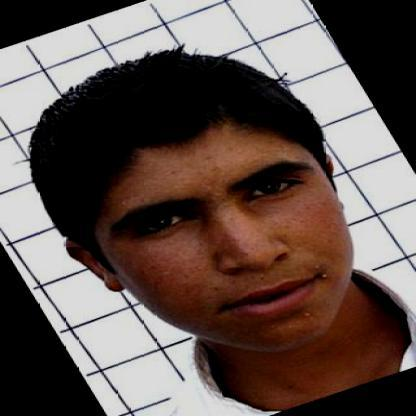without_mask: (81, 179, 369, 321)
